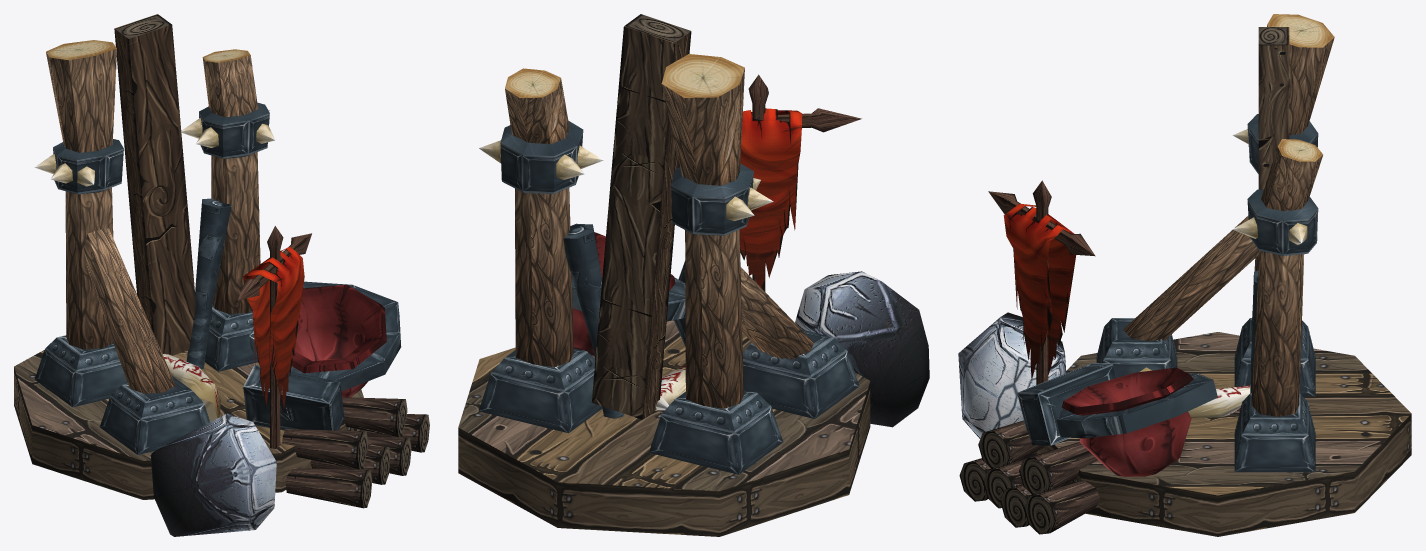
Rendered from Orc_Construction_tower_ground_1.FBX.
The picture shows the model from 3 angles, left to right: view 1: azimuth 30°, elevation 25°; view 2: azimuth 150°, elevation 25°; view 3: azimuth 270°, elevation 25°; orthographic projection. The views are drawn at different scales.
Parts seen in each view (by area): view 1: wood-plank, rotator_01, rock, trunk_, trunk_07, basket_structure, bag, trunk_06, Plane029, metal_base_10, metal_ring (×2), metal_base_08 (+10 smaller); view 2: rotator_01, wood-plank, trunk_, trunk_07, rock, metal_ring (×2), metal_base_08, Plane029, metal_base_07, metal_base_10, trunk_06, roller (+4 smaller); view 3: rotator_01, trunk_07, bag, basket_structure, Plane029, rock, trunk_06, metal_base_07, wood-plank, trunk_, metal_ring (×2), metal_base_10 (+9 smaller).
Part boxes in pixels (x1,y1,x2,y2): wood-plank: [114, 14, 195, 355]; rotator_01: [14, 350, 363, 499]; rock: [150, 413, 276, 536]; trunk_: [46, 40, 116, 349]; trunk_07: [202, 49, 260, 313]; basket_structure: [243, 281, 401, 430]; bag: [291, 284, 386, 397]; trunk_06: [83, 228, 175, 393]; Plane029: [243, 247, 304, 414]; metal_base_10: [100, 376, 209, 454]; metal_ring (×2): [53, 102, 269, 194]; metal_base_08: [34, 335, 127, 407]; rotator_01: [458, 320, 870, 536]; wood-plank: [591, 14, 691, 419]; trunk_: [661, 54, 744, 408]; trunk_07: [505, 68, 573, 367]; rock: [795, 271, 929, 427]; metal_ring (×2): [500, 120, 753, 235]; metal_base_08: [649, 389, 783, 474]; Plane029: [739, 108, 802, 290]; metal_base_07: [478, 348, 602, 433]; metal_base_10: [743, 329, 859, 418]; trunk_06: [740, 267, 813, 358]; roller: [563, 223, 624, 418]; rotator_01: [1036, 332, 1411, 536]; trunk_07: [1251, 139, 1323, 416]; bag: [1061, 367, 1193, 476]; basket_structure: [1017, 363, 1217, 445]; Plane029: [1003, 203, 1076, 379]; rock: [958, 312, 1066, 438]; trunk_06: [1123, 216, 1258, 341]; metal_base_07: [1234, 393, 1315, 472]; wood-plank: [1258, 27, 1289, 264]; trunk_: [1251, 14, 1334, 329]; metal_ring (×2): [1247, 114, 1318, 255]; metal_base_10: [1096, 318, 1177, 377].
Size of the model in its own units: 2937 by 3551 by 3351.
